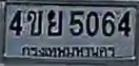0: (85, 10, 98, 36)
4: (8, 9, 21, 34), (117, 10, 129, 36)
5: (69, 10, 83, 35)
6: (101, 11, 114, 36)
A02: (26, 9, 42, 35)
A34: (47, 9, 62, 35)
BKK: (20, 44, 118, 59)
